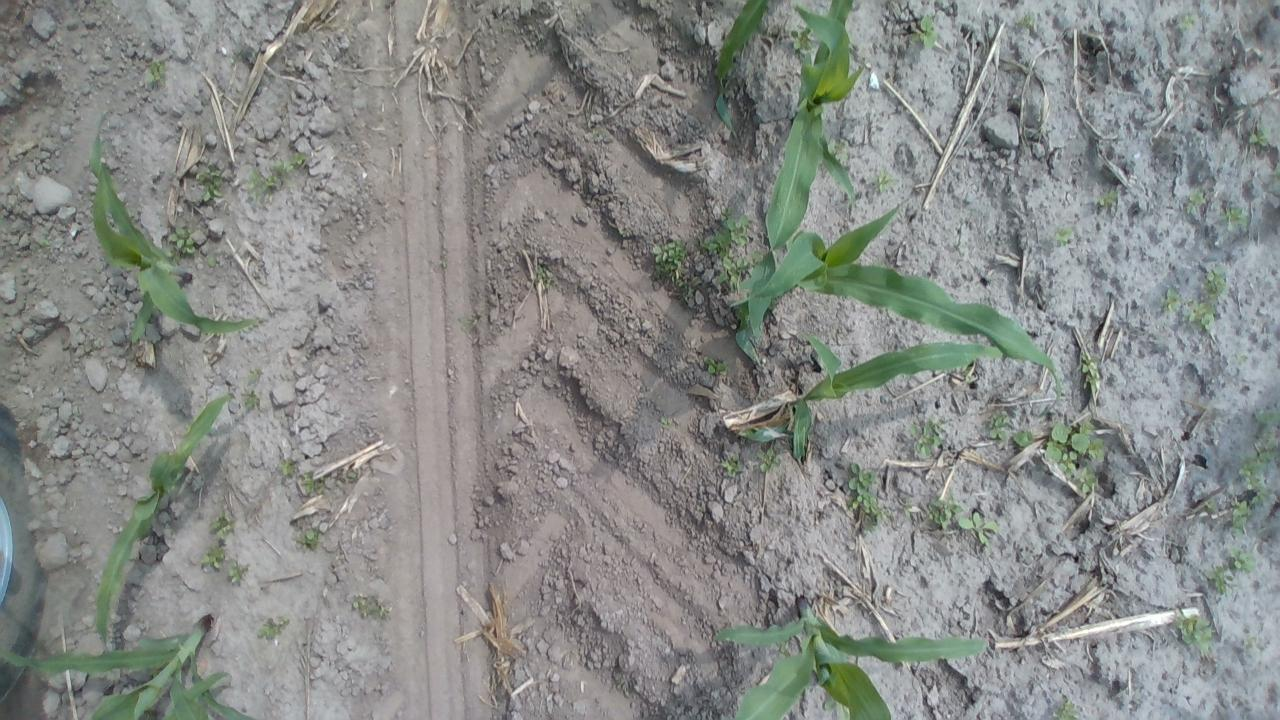Maize: (724, 202, 1064, 415), (83, 130, 264, 347), (90, 389, 241, 649), (734, 332, 1018, 465), (714, 0, 860, 254), (710, 590, 991, 720), (0, 608, 263, 720)
Weeds: (1040, 419, 1110, 500), (1237, 402, 1280, 507), (842, 462, 889, 535), (696, 207, 755, 256), (908, 414, 951, 458), (1172, 606, 1213, 652), (926, 488, 964, 530), (959, 512, 1001, 550), (650, 238, 686, 282), (350, 592, 394, 625), (197, 162, 228, 204), (910, 14, 943, 53), (242, 169, 282, 201), (718, 253, 748, 290), (1204, 564, 1236, 598), (163, 226, 200, 255), (1080, 352, 1104, 394), (208, 507, 238, 540), (256, 614, 294, 640), (1228, 544, 1259, 575), (1188, 298, 1217, 330), (700, 352, 733, 380), (1224, 498, 1250, 532), (1048, 698, 1086, 720), (1218, 204, 1250, 230), (142, 58, 166, 92), (272, 152, 308, 174), (1248, 122, 1274, 152), (755, 447, 782, 475), (718, 452, 746, 479), (871, 168, 902, 192), (789, 25, 815, 53), (200, 543, 227, 569), (292, 528, 321, 552), (986, 413, 1010, 442), (458, 312, 489, 334), (1181, 187, 1206, 214), (1206, 268, 1226, 301), (533, 265, 560, 289), (298, 471, 324, 495), (1162, 288, 1184, 316), (227, 560, 251, 583), (1048, 224, 1075, 244), (245, 366, 268, 388), (826, 142, 854, 160), (240, 391, 263, 412), (275, 457, 297, 478), (1096, 188, 1118, 208), (1176, 13, 1196, 34), (1011, 428, 1032, 446), (898, 498, 915, 520), (1017, 13, 1036, 32), (659, 415, 677, 432), (1200, 498, 1219, 514), (34, 237, 51, 248), (208, 255, 218, 268)
